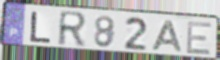2: (124, 16, 150, 52)
8: (93, 15, 117, 49)
A: (150, 19, 184, 53)
E: (185, 21, 214, 57)
L: (29, 11, 53, 45)
R: (57, 9, 89, 49)
